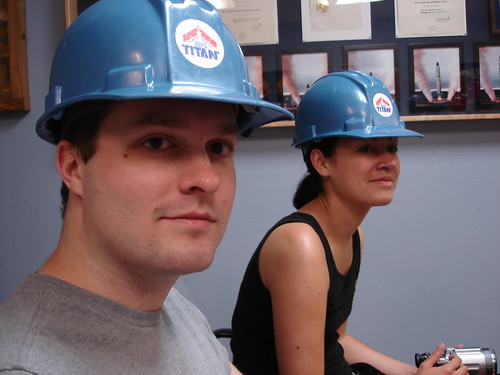person hardhat: (25, 1, 295, 375), (287, 66, 434, 375)
